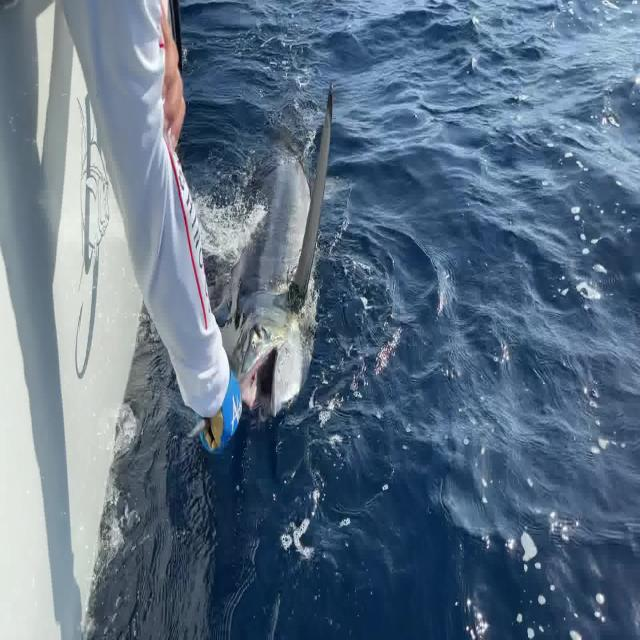Liberacion segura: (186, 83, 334, 438)
